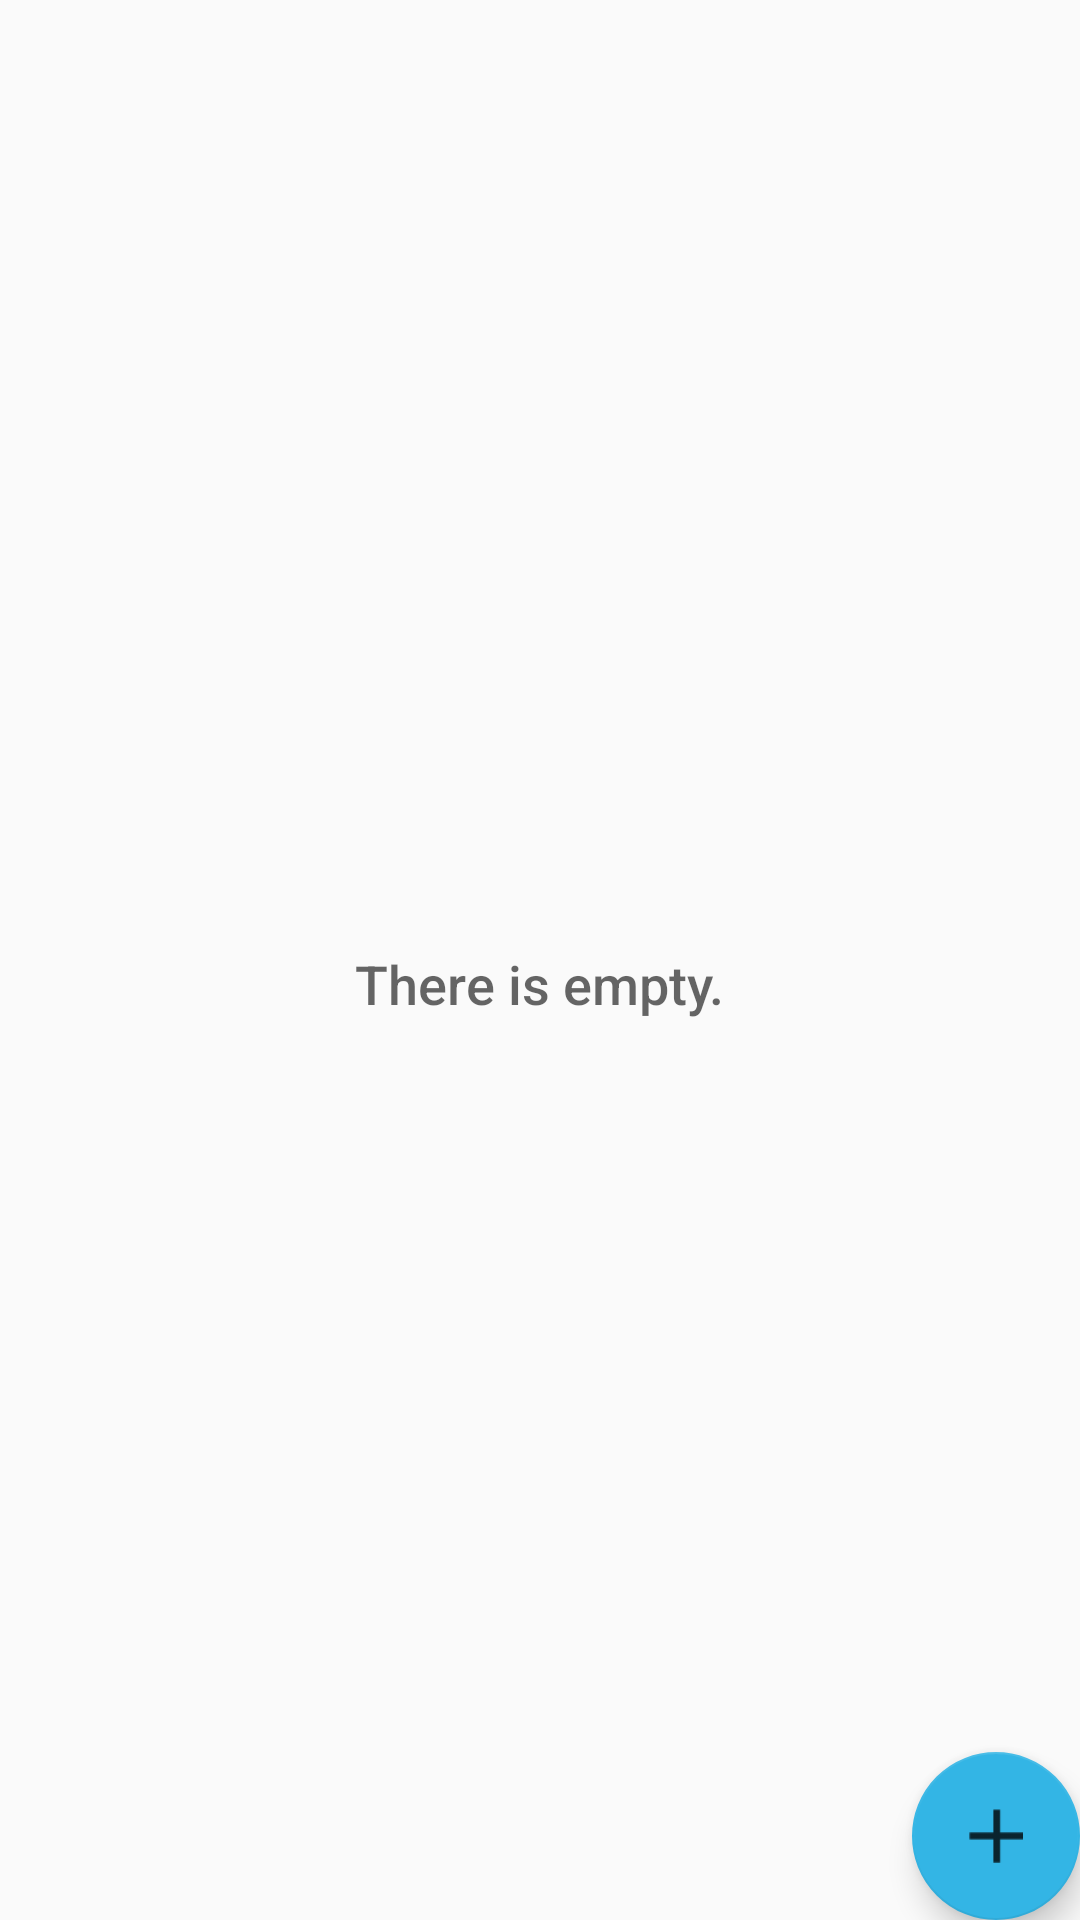

Icons on this 1080w x 1920h Android screen, each with the point to tap as point (x, y):
plus: point (996, 1836)
